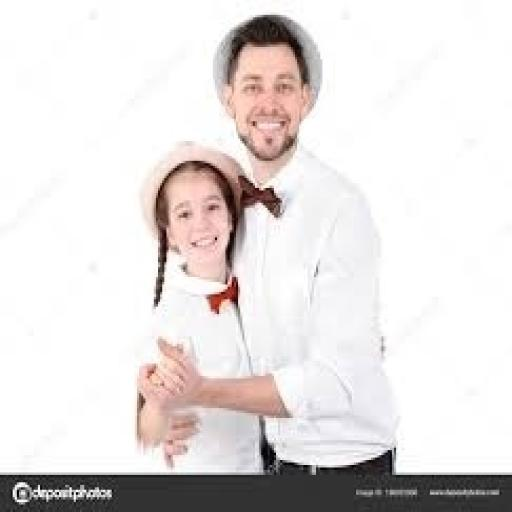hugging: (133, 10, 400, 477), (132, 138, 268, 475)
